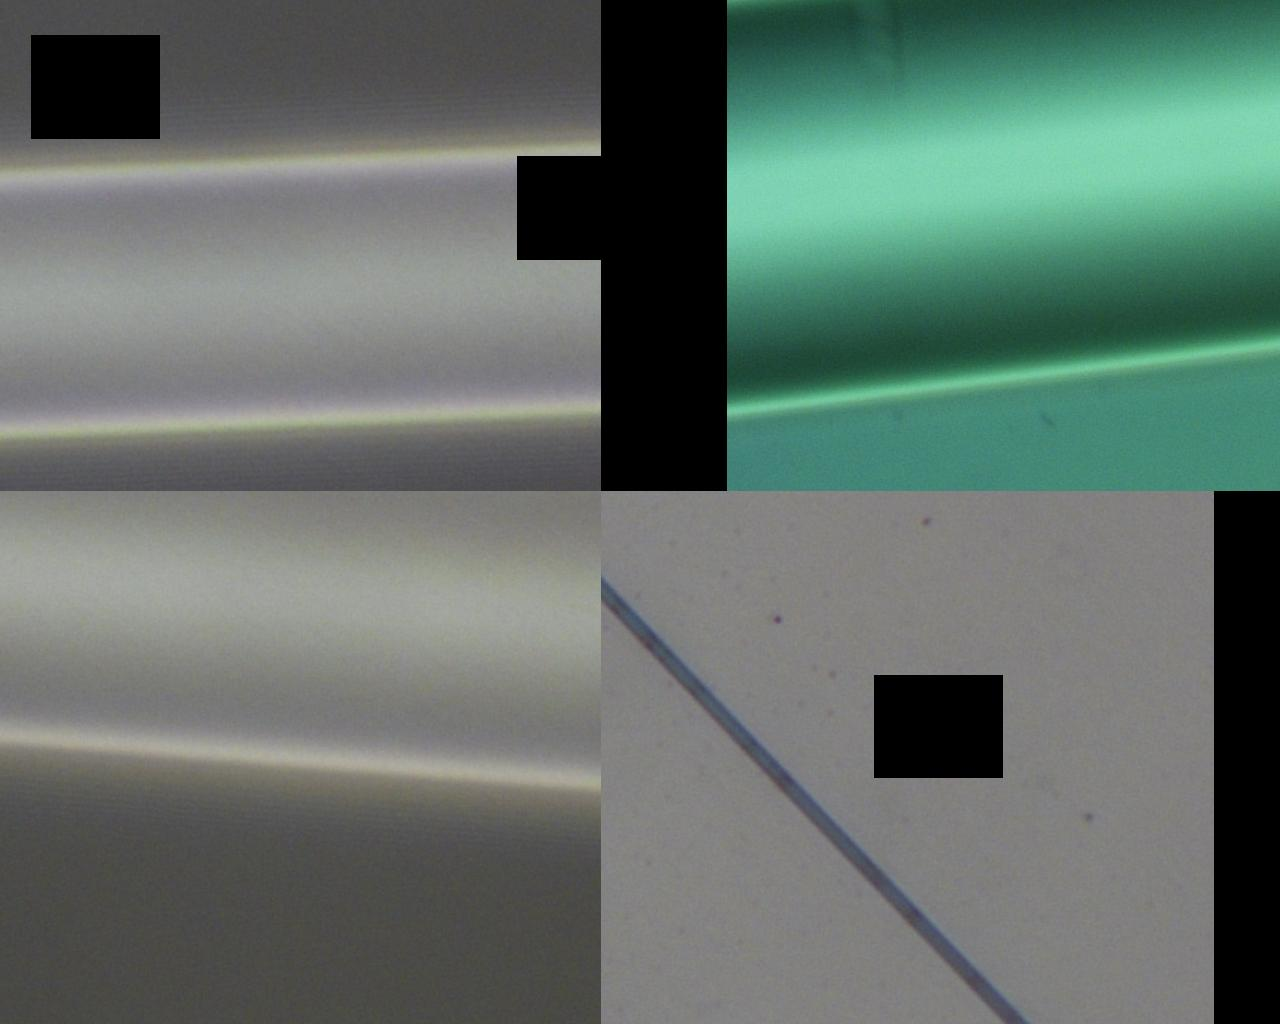fiber: (886, 0, 1121, 696), (743, 696, 1209, 1024), (72, 696, 524, 1024), (300, 390, 524, 488)
